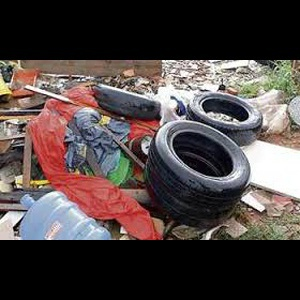tire: (147, 119, 251, 213), (187, 91, 263, 150)
